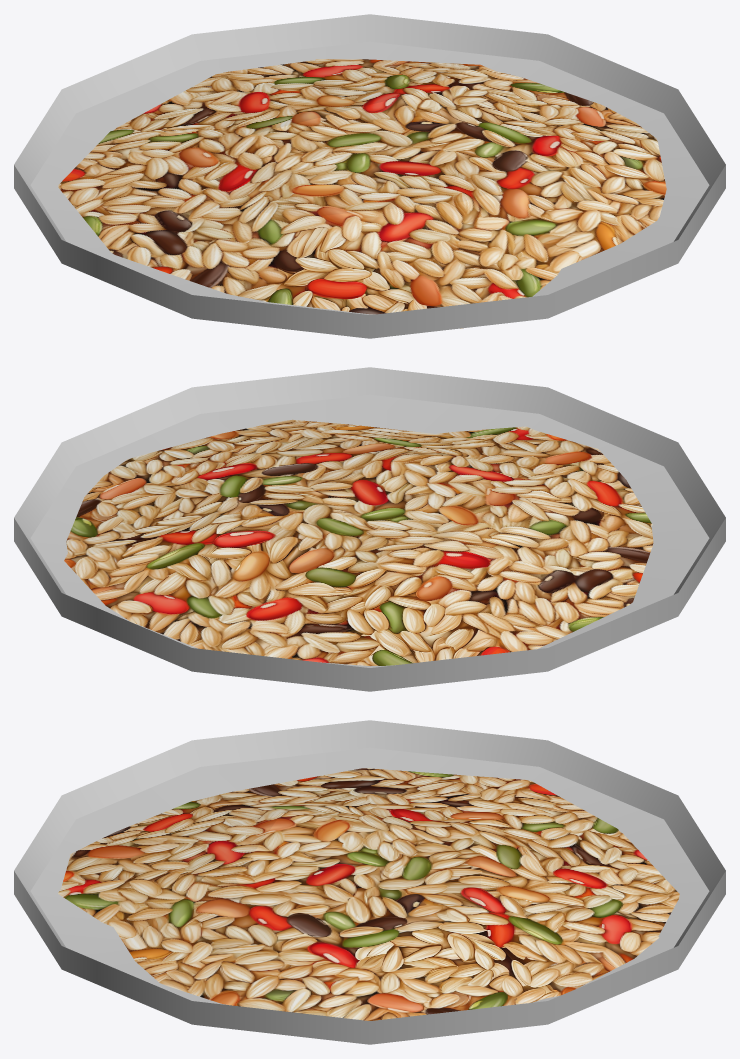
File: Plate00.fbx
3 views of the same model, one above another, from view 1: azimuth 30°, elevation 25°; view 2: azimuth 150°, elevation 25°; view 3: azimuth 270°, elevation 25° (orthographic).
Parts seen in each view (by area): view 1: FoodPlate00, Plate00; view 2: FoodPlate00, Plate00; view 3: FoodPlate00, Plate00.
Part boxes in pixels (x1,y1,x2,y2): FoodPlate00: (58, 59, 666, 328); Plate00: (14, 14, 725, 338); FoodPlate00: (64, 419, 653, 665); Plate00: (14, 367, 725, 691); FoodPlate00: (58, 768, 679, 1020); Plate00: (14, 720, 725, 1044).
Size of the model in its own units: 26.19 by 3.66 by 26.19.
